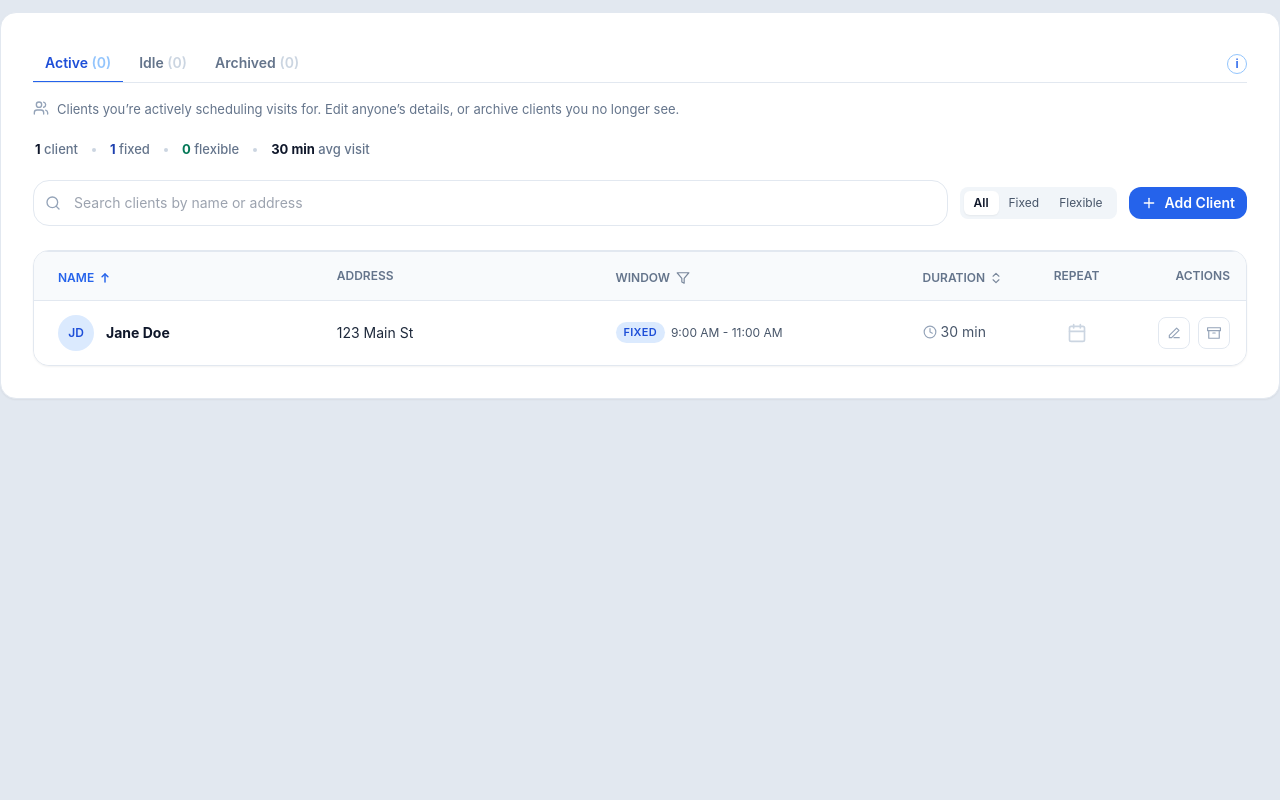
Test case: PatientsPage › loads and selects a patient into edit mode
Click the button named "Edit Jane Doe".
click(1174, 333)  # box [1158,317,1190,349]
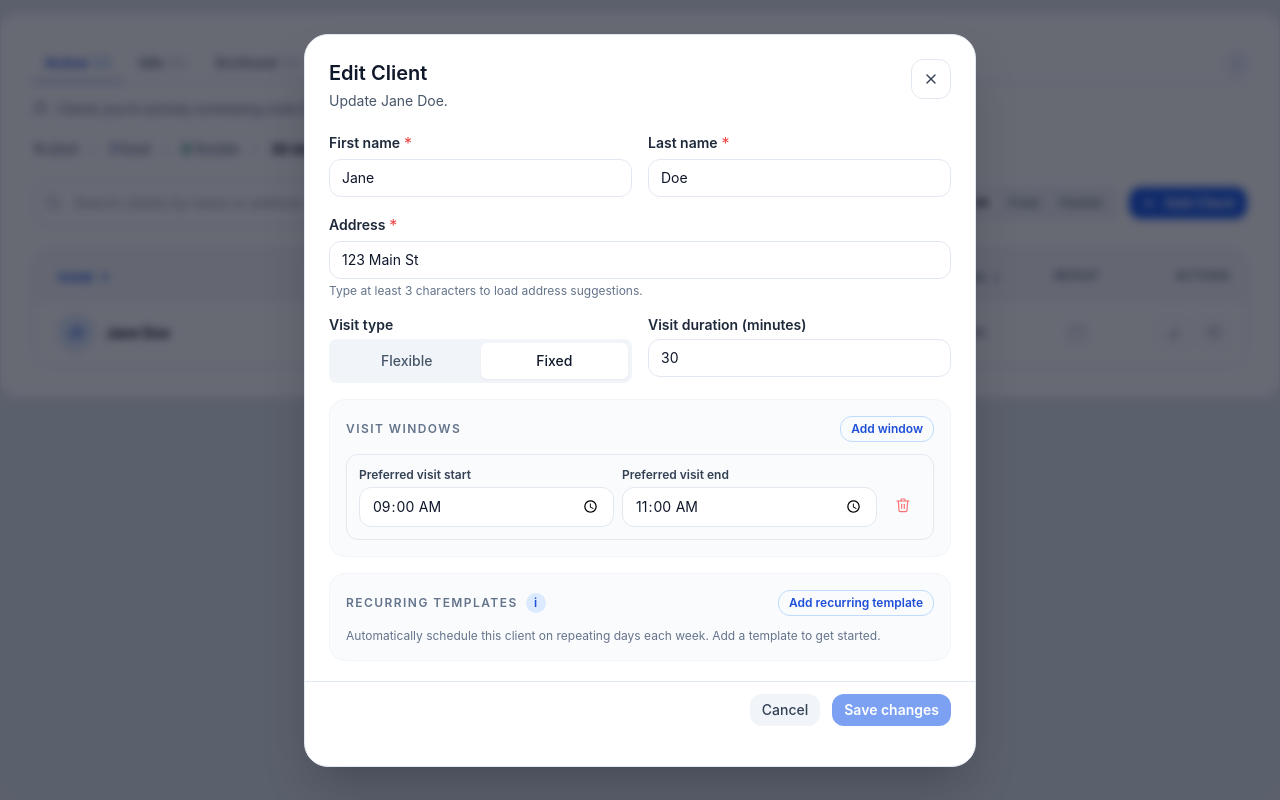
expect the heading "Edit Client" is shown: met, box [329,60,427,84]
expect the field labelled "First name" holds "Jane": met, box [329,158,632,196]
expect the field labelled "Last name" holds "Doe": met, box [648,158,951,196]
